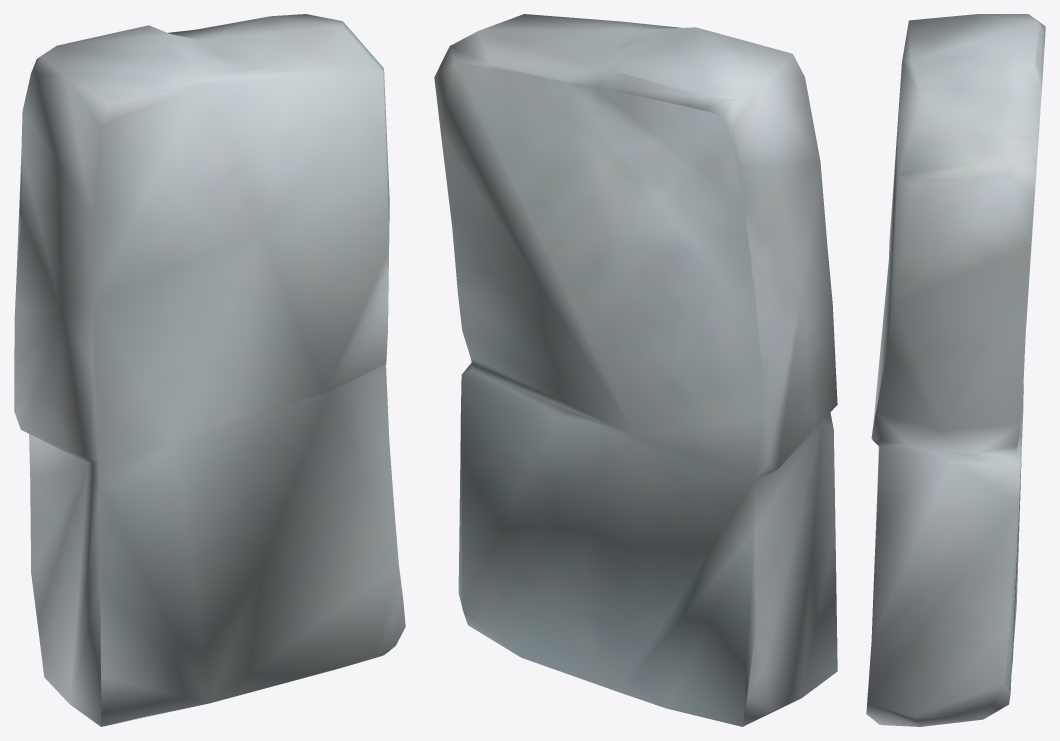
Rendered from P_CubicCliffPiece12.obj.
The picture shows the model from 3 angles, left to right: view 1: azimuth 30°, elevation 25°; view 2: azimuth 150°, elevation 25°; view 3: azimuth 270°, elevation 25°; orthographic projection. The views are drawn at different scales.
Bounding box in the file's own units: 11.28 × 20.78 × 5.67.
